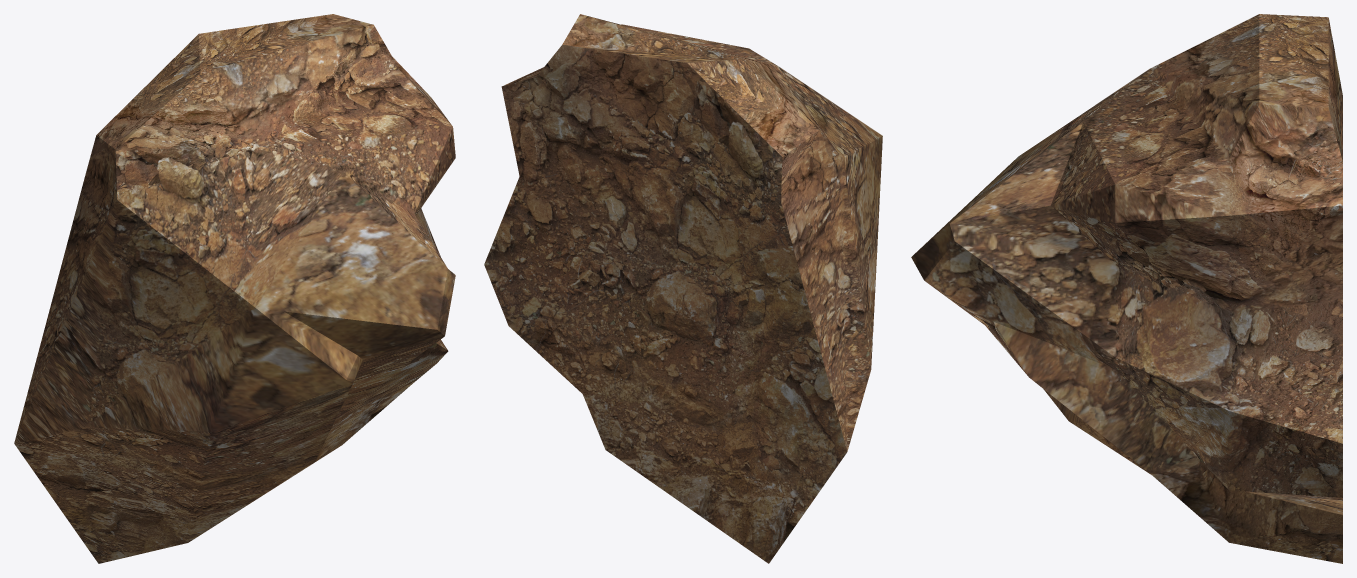
Rendered from mars_rock_3.obj.
3 renders of one model, left to right at view 1: azimuth 30°, elevation 25°; view 2: azimuth 150°, elevation 25°; view 3: azimuth 270°, elevation 25°, orthographic. The views are drawn at different scales.
Visible parts, largest first — view 1: mars_rock_3; view 2: mars_rock_3; view 3: mars_rock_3.
Part boxes in pixels (<box>): mars_rock_3: <box>14,14,455,563</box>; mars_rock_3: <box>484,14,882,563</box>; mars_rock_3: <box>911,14,1342,563</box>.
Bounding box in the file's own units: 44.52 × 55.68 × 36.74.
